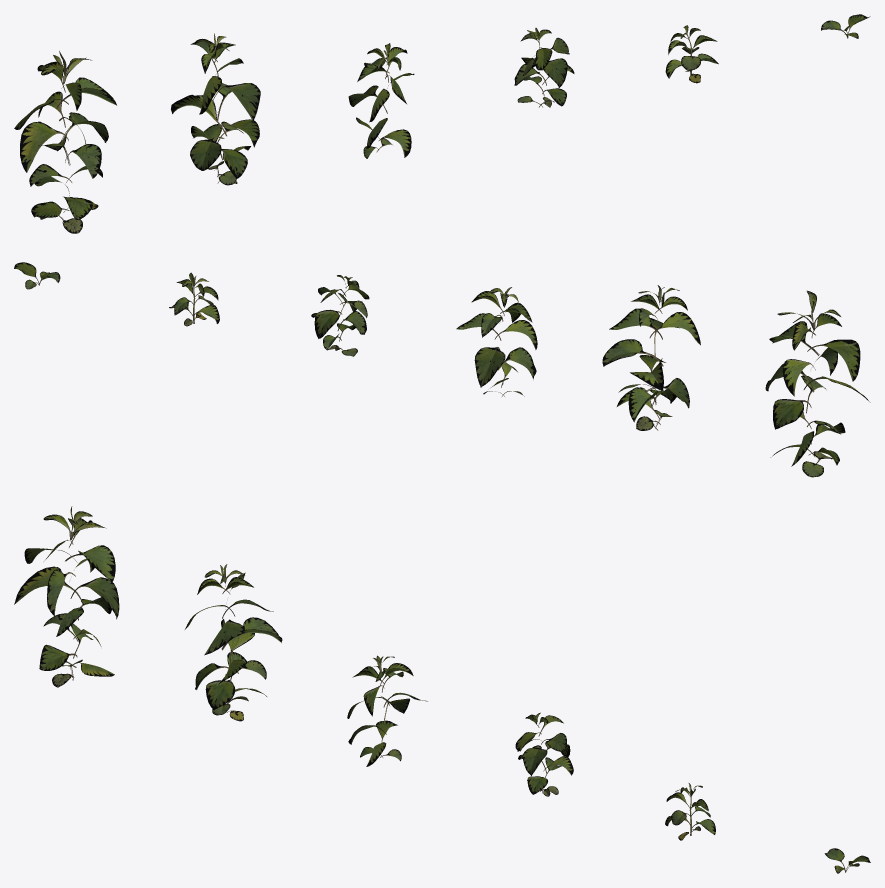
Rendered from nettle_plant.glb.
The picture shows the model from 3 angles, top to bottom: view 1: azimuth 30°, elevation 25°; view 2: azimuth 150°, elevation 25°; view 3: azimuth 330°, elevation 25°; orthographic projection.
Parts seen in each view (by area): view 1: nettle_plant_tall_a_LOD0, nettle_plant_tall_b_LOD0, nettle_plant_medium_a_LOD0, nettle_plant_medium_b_LOD0, nettle_plant_small_a_LOD0; view 2: nettle_plant_tall_a_LOD0, nettle_plant_tall_b_LOD0, nettle_plant_medium_a_LOD0, nettle_plant_medium_b_LOD0, nettle_plant_small_a_LOD0, nettle_plant_small_b_LOD0; view 3: nettle_plant_tall_a_LOD0, nettle_plant_tall_b_LOD0, nettle_plant_medium_b_LOD0, nettle_plant_medium_a_LOD0, nettle_plant_small_a_LOD0.
Boxes of the visible parts, x1,y1,x2,y2 form: nettle_plant_tall_a_LOD0: [14, 51, 116, 233]; nettle_plant_tall_b_LOD0: [171, 33, 260, 185]; nettle_plant_medium_a_LOD0: [348, 43, 414, 158]; nettle_plant_medium_b_LOD0: [514, 28, 574, 107]; nettle_plant_small_a_LOD0: [665, 25, 718, 83]; nettle_plant_tall_a_LOD0: [765, 290, 870, 477]; nettle_plant_tall_b_LOD0: [602, 285, 700, 430]; nettle_plant_medium_a_LOD0: [456, 287, 537, 396]; nettle_plant_medium_b_LOD0: [311, 275, 369, 356]; nettle_plant_small_a_LOD0: [169, 272, 219, 326]; nettle_plant_small_b_LOD0: [14, 262, 60, 289]; nettle_plant_tall_a_LOD0: [14, 506, 119, 687]; nettle_plant_tall_b_LOD0: [185, 564, 282, 721]; nettle_plant_medium_b_LOD0: [515, 712, 573, 796]; nettle_plant_medium_a_LOD0: [347, 655, 427, 766]; nettle_plant_small_a_LOD0: [665, 783, 715, 840].
Bounding box in the file's own units: 1.09 × 0.2178 × 0.119.
1 material, 1 textured.
